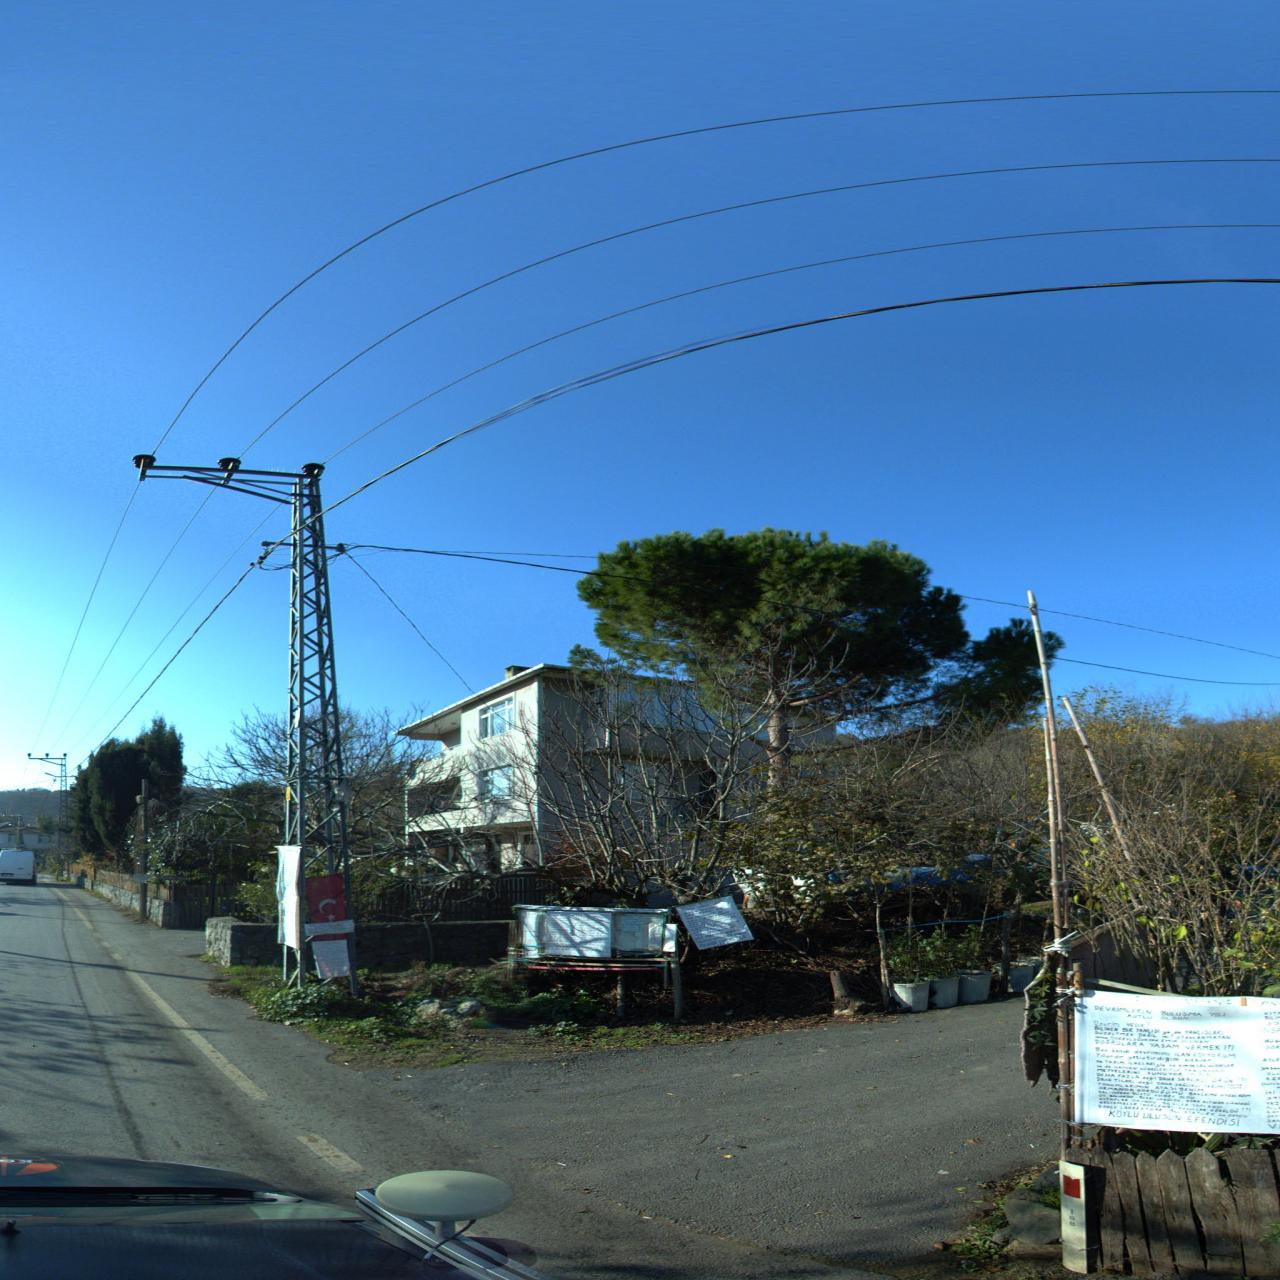Utility Pole Information Plate: (284, 787, 293, 803)
